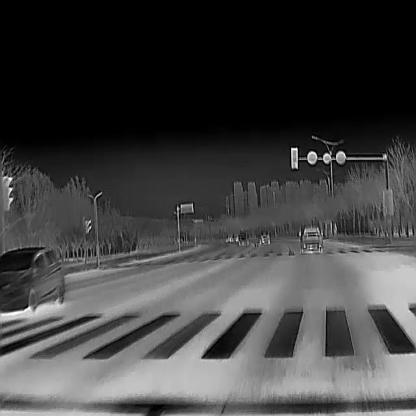car: (0, 246, 65, 314), (298, 225, 323, 253), (259, 230, 270, 244), (239, 231, 247, 241), (232, 233, 239, 241), (226, 233, 232, 241)
